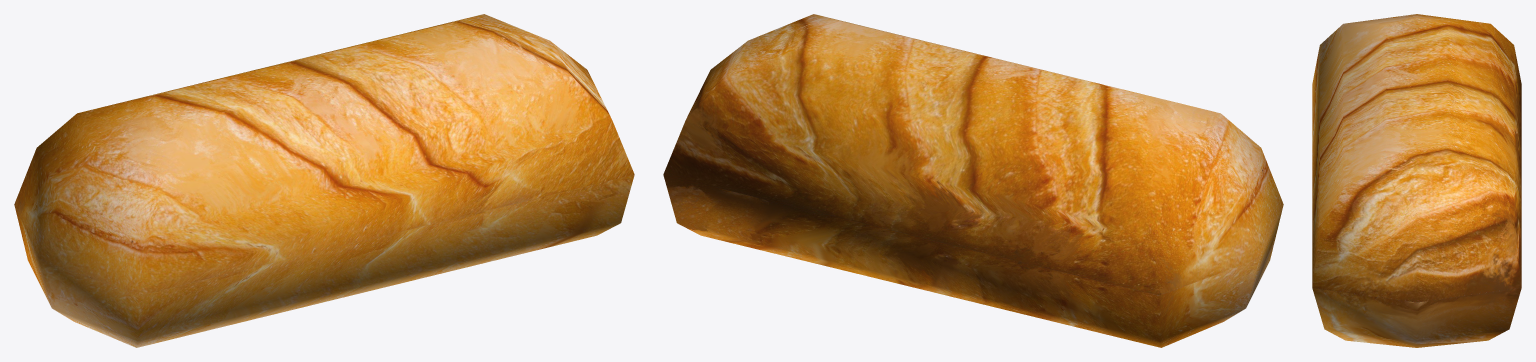
File: loaf.fbx
3 renders of one model, left to right at view 1: azimuth 30°, elevation 25°; view 2: azimuth 150°, elevation 25°; view 3: azimuth 270°, elevation 25°, orthographic. The views are drawn at different scales.
Visible parts, largest first — view 1: Loaf; view 2: Loaf; view 3: Loaf.
Boxes of the visible parts, left/top/right/bottom form: Loaf: left=14, top=14, right=634, bottom=347; Loaf: left=663, top=14, right=1283, bottom=347; Loaf: left=1312, top=14, right=1521, bottom=347.
Size of the model in its own units: 123 by 39.03 by 46.63.
